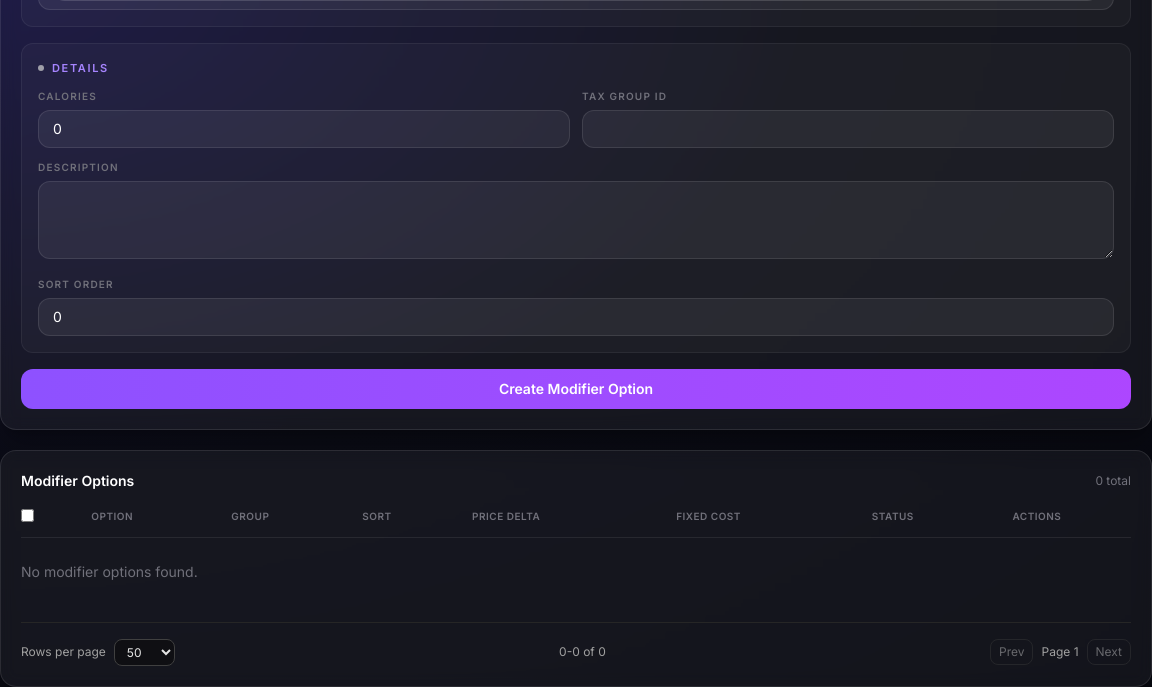
it: MenuModifierOptionsPage — form › shows group required error when no group is selected
(page scrolled)
Step 1. Click the button "Create Modifier Option" → point(576, 388), box [21,368,1131,408]
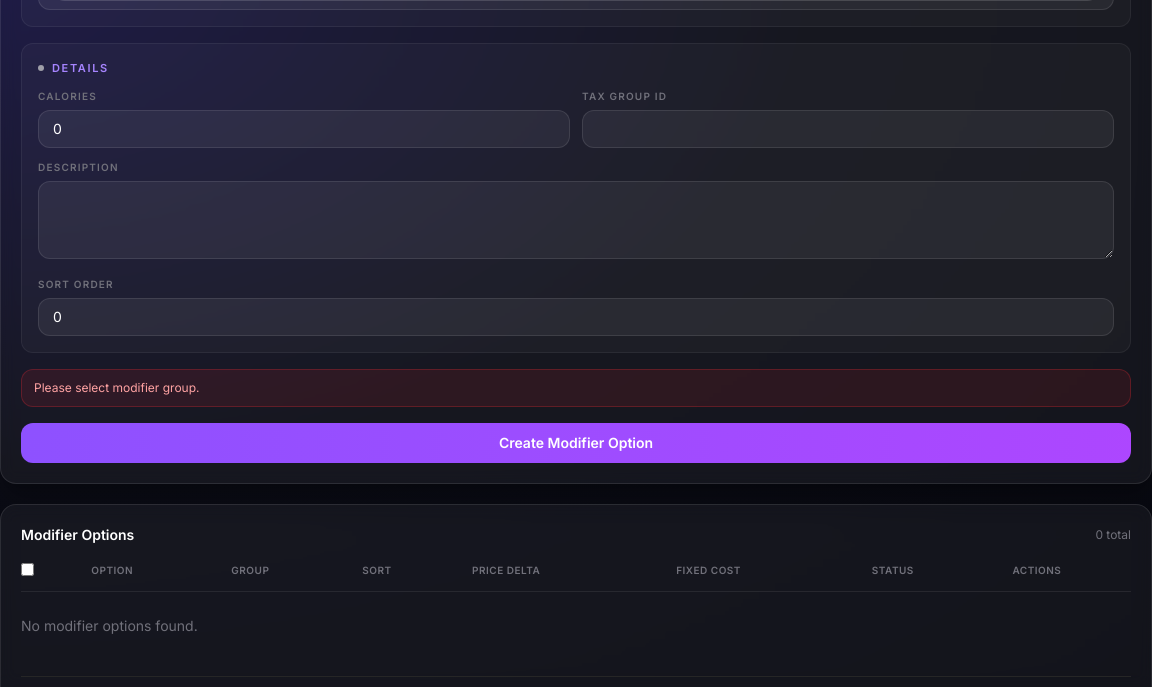
Check: the text "Please select modifier group." is shown, box [21,368,1131,406]
